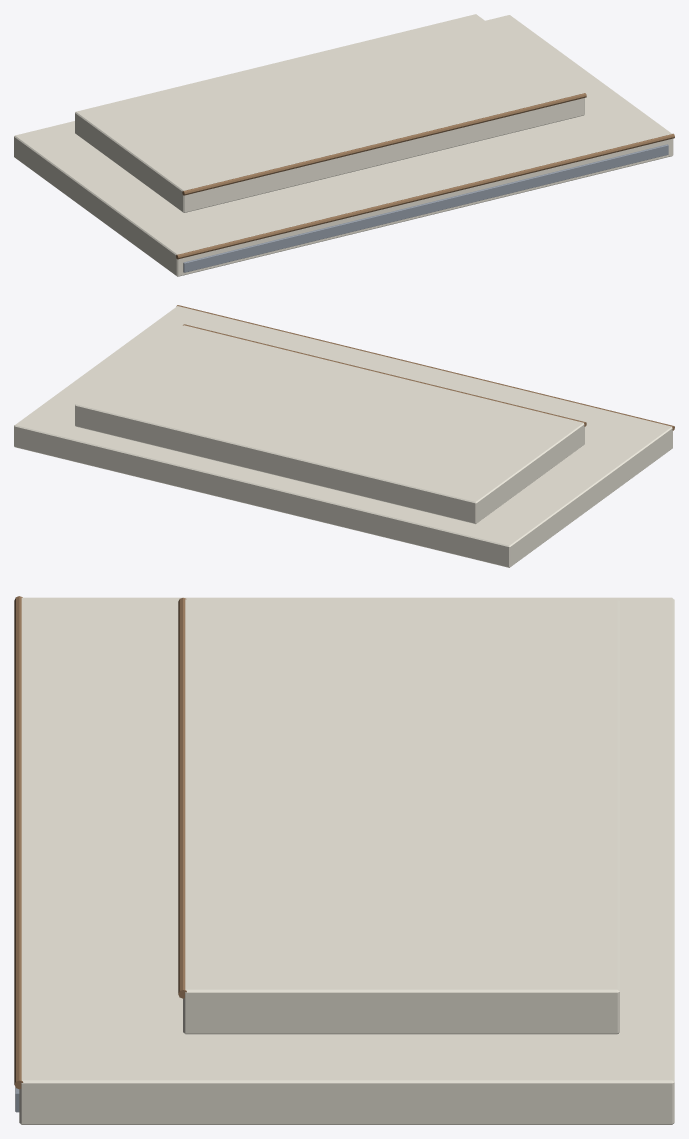
The model's file is wedding-and-chapel-kit-chapel-dais-platform-34293295__39377.glb.
3 renders of one model, top to bottom at view 1: azimuth 30°, elevation 25°; view 2: azimuth 150°, elevation 25°; view 3: azimuth 270°, elevation 25°, orthographic. The views are drawn at different scales.
Parts seen in each view (by area): view 1: chapel-dais-platform; view 2: chapel-dais-platform; view 3: chapel-dais-platform.
Boxes of the visible parts, bbox=[...] form: chapel-dais-platform: bbox=[14, 14, 674, 276]; chapel-dais-platform: bbox=[14, 305, 674, 567]; chapel-dais-platform: bbox=[14, 596, 674, 1124].
Bounding box in the file's own units: 4.2 × 0.3629 × 2.42.
